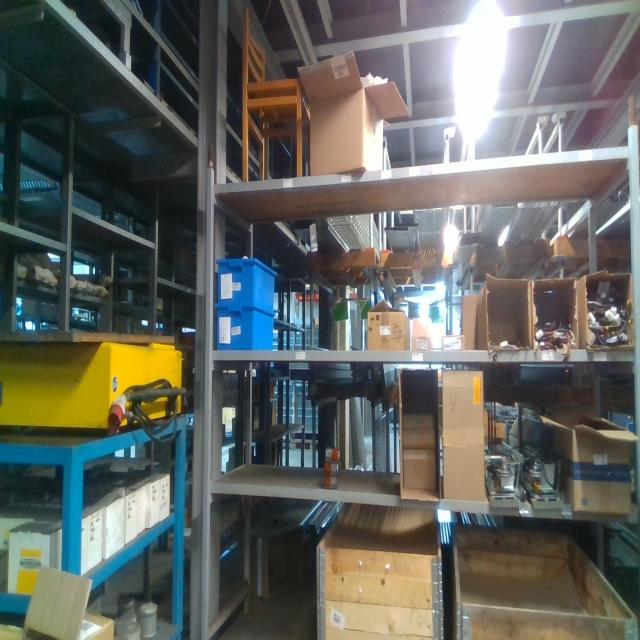small_load_carrier: (214, 303, 281, 362), (214, 250, 275, 312)
